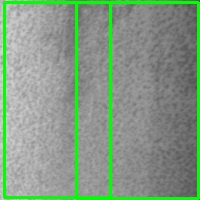pitted_surface: (76, 2, 198, 198), (4, 2, 110, 197)
